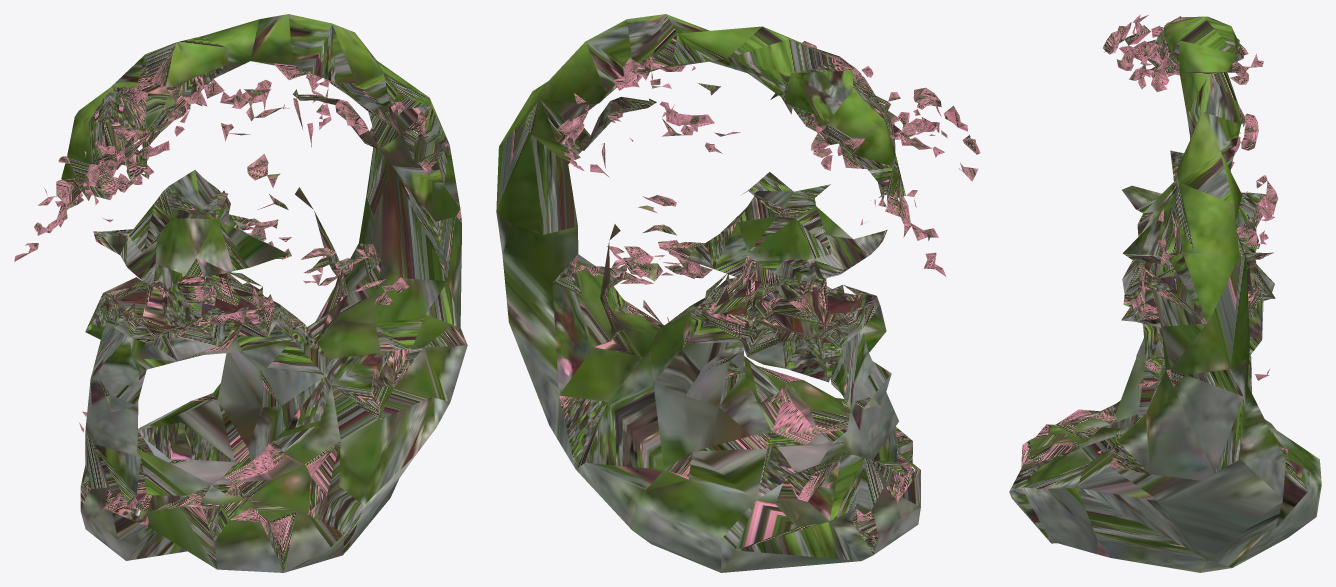
Rendered from bq_moongate.lod2.glb.
3 renders of one model, left to right at view 1: azimuth 30°, elevation 25°; view 2: azimuth 150°, elevation 25°; view 3: azimuth 270°, elevation 25°, orthographic. The views are drawn at different scales.
Size of the model in its own units: 1.75 by 1.87 by 1.09.
Materials: 1 (1 with a texture image).
